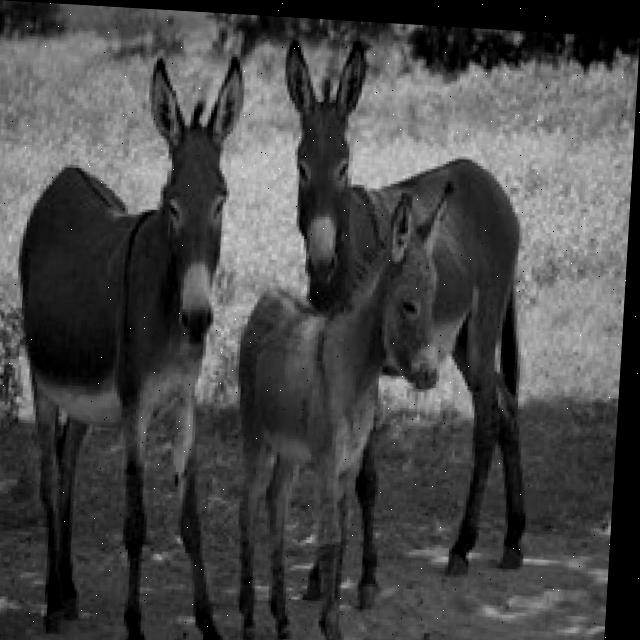Donkey: (253, 34, 553, 590), (0, 42, 257, 640), (220, 169, 454, 640)
